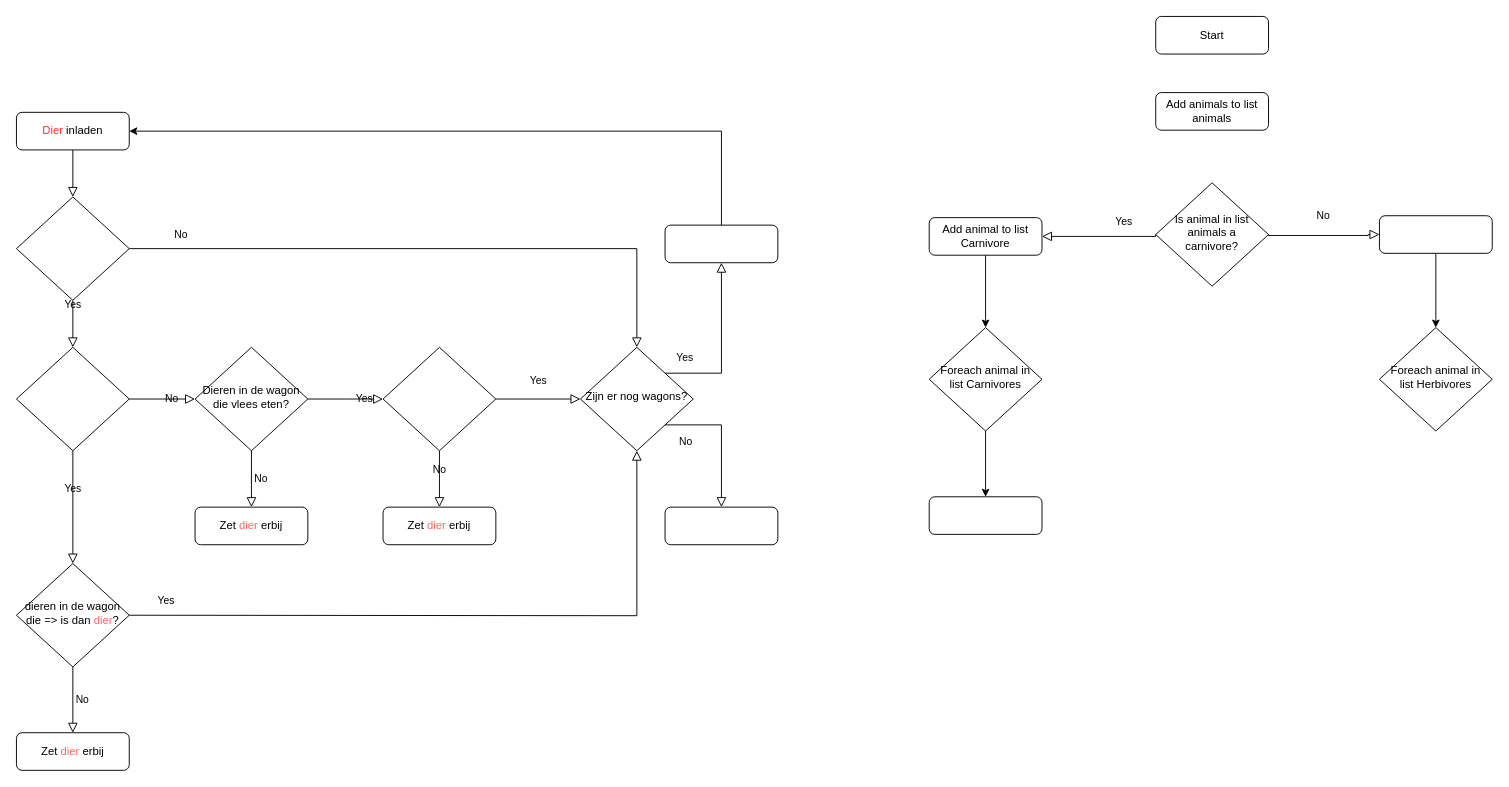
The diagram is 1509 pixels wide and 787 high, and some of its shapes have lost their labels. The shapes that lost their labels are listed below. From the top down, each one's centre as x and y in pixels, then its label:
At point (72, 248): "Wagon + punten van dier < 10".
At point (721, 243): "Ga naar volgende wagon".
At point (1435, 234): "Add animal to list Herbivore".
At point (72, 398): "Eet dier vlees?".
At point (439, 398): "Vleesetende dieren in de wagon die => is dan dier ?".
At point (721, 525): "Nieuwe wagon + zet dier erbij".
At point (985, 515): "NewWagon + addAnimal to wagon".
